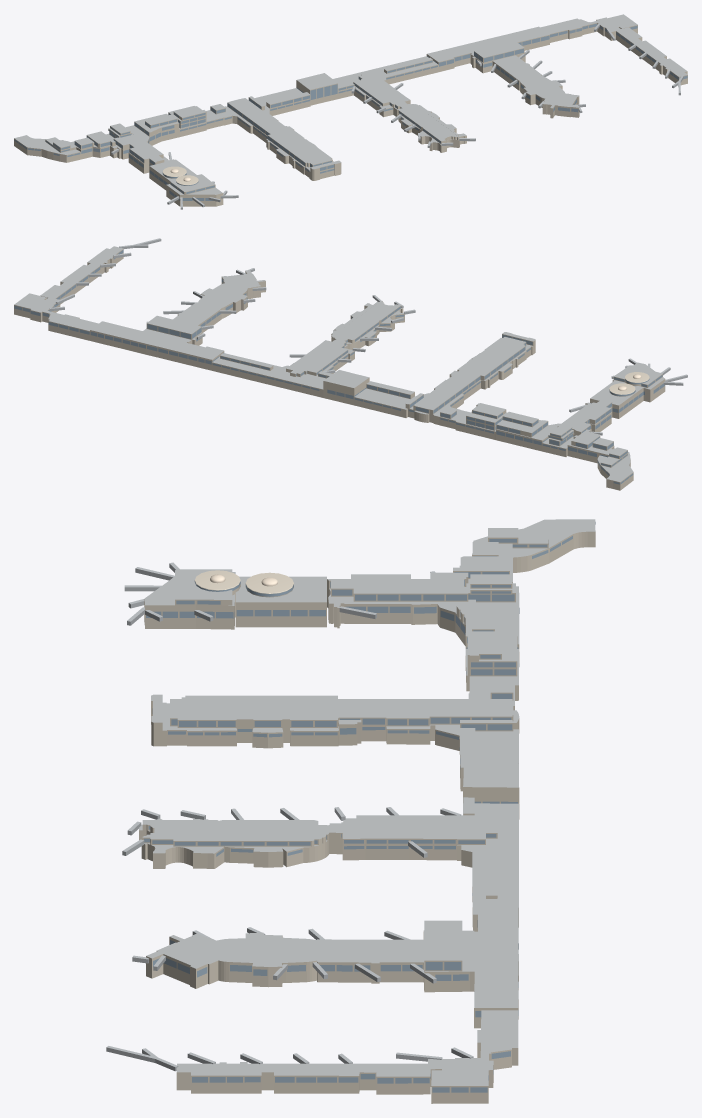
Rendered from la-lax-terminals-4-8.glb.
3 renders of one model, top to bottom at view 1: azimuth 30°, elevation 25°; view 2: azimuth 150°, elevation 25°; view 3: azimuth 270°, elevation 25°, orthographic. The views are drawn at different scales.
Parts seen in each view (by area): view 1: LAX Terminals 4-8; view 2: LAX Terminals 4-8; view 3: LAX Terminals 4-8.
Boxes of the visible parts, x1,y1,x2,y2 form: LAX Terminals 4-8: (14, 14, 687, 209); LAX Terminals 4-8: (14, 238, 687, 490); LAX Terminals 4-8: (106, 519, 595, 1103).
Size of the model in its own units: 1059 by 31.5 by 385.
